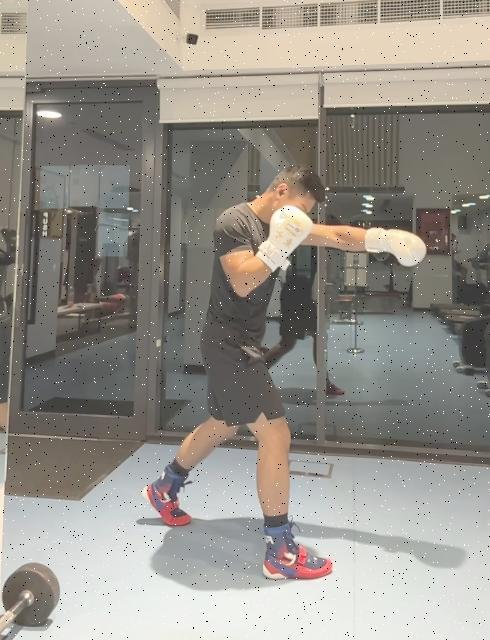punch: (138, 162, 428, 584)
